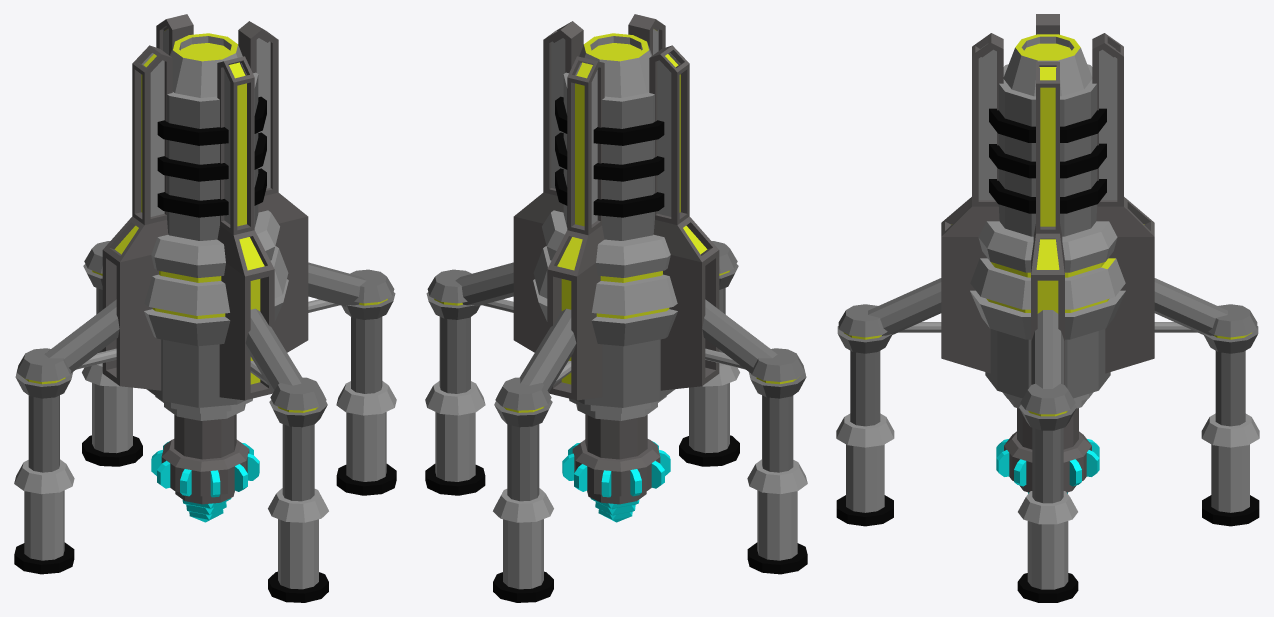
Rendered from Drill.fbx.
3 renders of one model, left to right at view 1: azimuth 30°, elevation 25°; view 2: azimuth 150°, elevation 25°; view 3: azimuth 270°, elevation 25°, orthographic.
Parts seen in each view (by area): view 1: Machine, Drill, Foot.003, Foot.001, Foot.002, Foot; view 2: Machine, Drill, Foot.003, Foot.001, Foot, Foot.002; view 3: Machine, Foot.003, Foot.002, Foot, Drill.
Part boxes in pixels (<box>): Machine: <box>15,14,395,501</box>; Drill: <box>151,414,259,522</box>; Foot.003: <box>336,381,396,495</box>; Foot.001: <box>14,459,74,574</box>; Foot.002: <box>268,488,328,602</box>; Foot: <box>82,363,142,466</box>; Machine: <box>426,14,806,501</box>; Drill: <box>562,414,670,522</box>; Foot.003: <box>425,381,485,495</box>; Foot.001: <box>747,459,807,574</box>; Foot: <box>493,488,553,602</box>; Foot.002: <box>679,363,739,466</box>; Machine: <box>837,14,1258,503</box>; Foot.003: <box>1017,491,1078,602</box>; Foot.002: <box>836,413,894,526</box>; Foot: <box>1201,413,1259,526</box>; Drill: <box>996,408,1099,493</box>.
Bounding box in the file's own units: 150 × 150 × 186.
